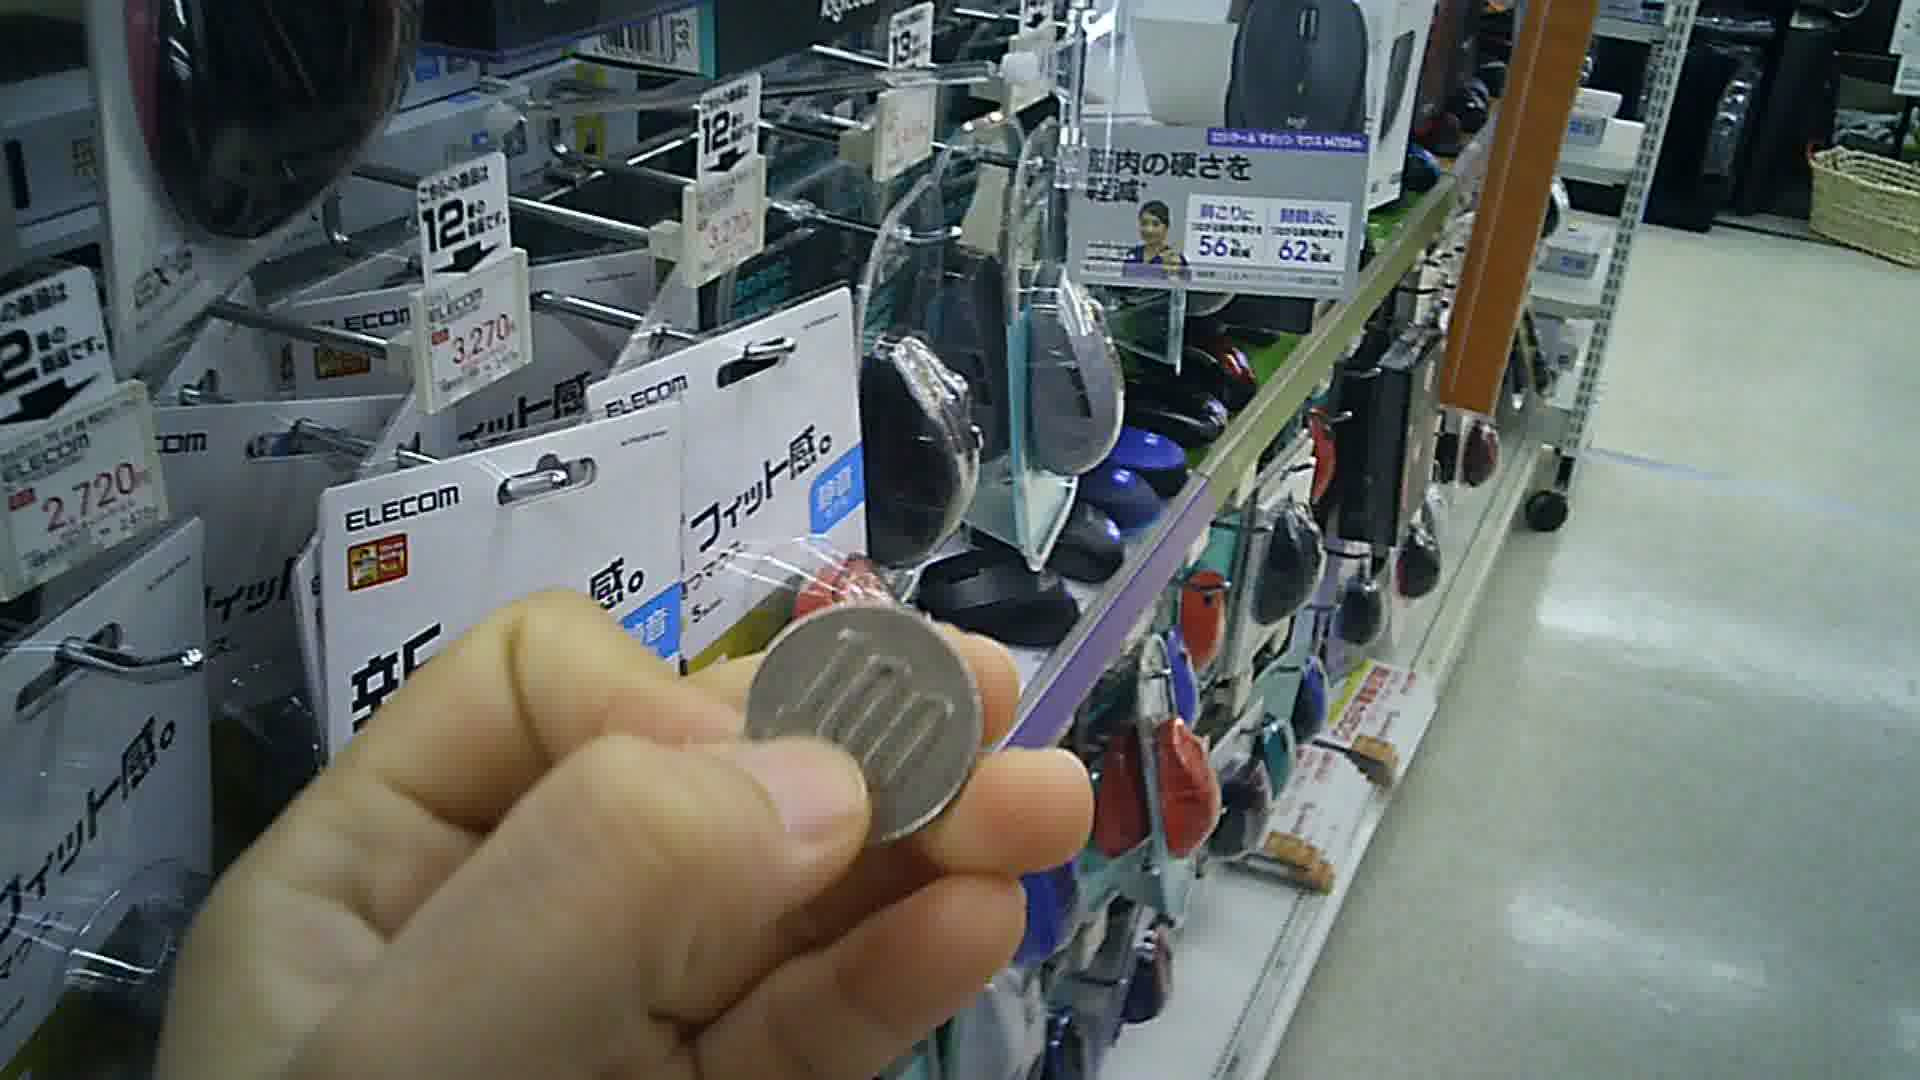100 Yen: (738, 588, 978, 849)
